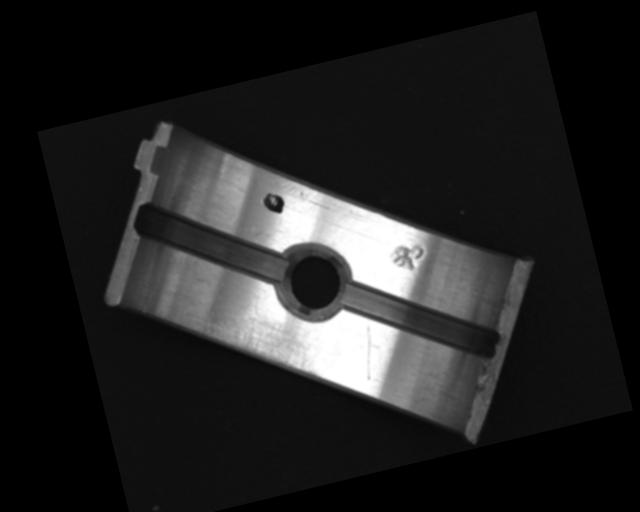blot: (260, 189, 287, 218)
bruise: (388, 239, 429, 277)
gap: (339, 253, 504, 389), (130, 175, 290, 310)
hole: (267, 234, 360, 328)
nick: (354, 318, 384, 380)
scratch: (185, 284, 325, 407)
